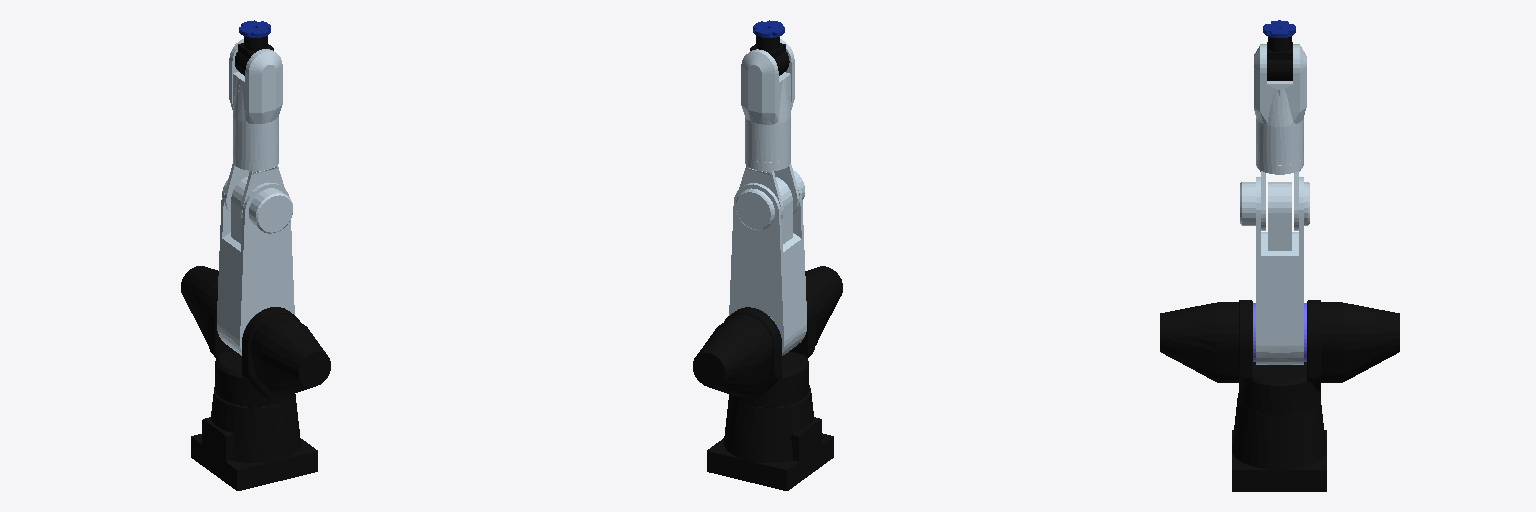
URDF robot description (crs93):
<?xml version="1.0"?>
<!-- CRS A465 (CTU station CRS93). GENERATED by robodk2urdf.py, do not edit.
     Kinematics = ctu_crs (joint values == robot.get_q(), frame 'flange' ==
     robot.fk(q), base_link == ctu base frame). Meshes from RoboDK library.
     Units: m, rad. -->
<robot name="crs93">
  <material name="crs_0"><color rgba="0.1 0.1 0.1 1"/></material>
  <material name="crs_1"><color rgba="0.778 0.849 0.9 1"/></material>
  <material name="crs_2"><color rgba="0.5 0.5 1 1"/></material>
  <link name="base_link">
    <visual>
      <origin xyz="0 0 -0.0248"/>
      <geometry><mesh filename="meshes/crs93/link0.stl"/></geometry>
      <material name="crs_0"/>
    </visual>
    <collision>
      <origin xyz="0 0 -0.0248"/>
      <geometry><mesh filename="meshes/crs93/link0.stl"/></geometry>
    </collision>
  </link>
  <link name="link1">
    <visual>
      <origin xyz="0 0 0.3052"/>
      <geometry><mesh filename="meshes/crs93/link1.stl"/></geometry>
      <material name="crs_0"/>
    </visual>
    <collision>
      <origin xyz="0 0 0.3052"/>
      <geometry><mesh filename="meshes/crs93/link1.stl"/></geometry>
    </collision>
  </link>
  <link name="link2">
    <visual>
      <origin xyz="0 0 0"/>
      <geometry><mesh filename="meshes/crs93/link2_0.stl"/></geometry>
      <material name="crs_1"/>
    </visual>
    <visual>
      <origin xyz="0 0 0"/>
      <geometry><mesh filename="meshes/crs93/link2_1.stl"/></geometry>
      <material name="crs_2"/>
    </visual>
    <collision>
      <origin xyz="0 0 0"/>
      <geometry><mesh filename="meshes/crs93/link2.stl"/></geometry>
    </collision>
  </link>
  <link name="link3">
    <visual>
      <origin xyz="0 0 0"/>
      <geometry><mesh filename="meshes/crs93/link3.stl"/></geometry>
      <material name="crs_1"/>
    </visual>
    <collision>
      <origin xyz="0 0 0"/>
      <geometry><mesh filename="meshes/crs93/link3.stl"/></geometry>
    </collision>
  </link>
  <link name="link4">
    <visual>
      <origin xyz="0 0 0.3302"/>
      <geometry><mesh filename="meshes/crs93/link4.stl"/></geometry>
      <material name="crs_1"/>
    </visual>
    <collision>
      <origin xyz="0 0 0.3302"/>
      <geometry><mesh filename="meshes/crs93/link4.stl"/></geometry>
    </collision>
  </link>
  <link name="link5">
    <visual>
      <origin xyz="0 0 0"/>
      <geometry><mesh filename="meshes/crs93/link5.stl"/></geometry>
      <material name="crs_0"/>
    </visual>
    <collision>
      <origin xyz="0 0 0"/>
      <geometry><mesh filename="meshes/crs93/link5.stl"/></geometry>
    </collision>
  </link>
  <link name="link6">
    <visual>
      <origin xyz="0 0 0.0762"/>
      <geometry><mesh filename="meshes/crs93/link6.stl"/></geometry>
      <material name="crs_0"/>
    </visual>
    <collision>
      <origin xyz="0 0 0.0762"/>
      <geometry><mesh filename="meshes/crs93/link6.stl"/></geometry>
    </collision>
  </link>
  <joint name="joint1" type="revolute">
    <parent link="base_link"/>
    <child link="link1"/>
    <origin xyz="0 0 0" rpy="0 -0 3.14159265359"/>
    <axis xyz="0 0 1"/>
    <limit lower="-2.95859488152" upper="3.0104311603" velocity="1.0" effort="100"/>
  </joint>
  <joint name="joint2" type="revolute">
    <parent link="link1"/>
    <child link="link2"/>
    <origin xyz="0 0 0.3052" rpy="-1.57079632679 -1.57079632679 0"/>
    <axis xyz="0 0 1"/>
    <limit lower="-1.56531424761" upper="1.57627840598" velocity="1.0" effort="100"/>
  </joint>
  <joint name="joint3" type="revolute">
    <parent link="link2"/>
    <child link="link3"/>
    <origin xyz="0.3048 0 0" rpy="0 -0 -1.57079632679"/>
    <axis xyz="0 0 1"/>
    <limit lower="-1.96663700115" upper="2.00747770564" velocity="1.0" effort="100"/>
  </joint>
  <joint name="joint4" type="revolute">
    <parent link="link3"/>
    <child link="link4"/>
    <origin xyz="0 0 0" rpy="-1.57079632679 -0 0"/>
    <axis xyz="0 0 1"/>
    <limit lower="-3.24423875019" upper="3.24112826242" velocity="1.0" effort="100"/>
  </joint>
  <joint name="joint5" type="revolute">
    <parent link="link4"/>
    <child link="link5"/>
    <origin xyz="0 0 0.3302" rpy="1.57079632679 -0 0"/>
    <axis xyz="0 0 1"/>
    <limit lower="-1.84411488766" upper="1.83154851704" velocity="1.0" effort="100"/>
  </joint>
  <joint name="joint6" type="revolute">
    <parent link="link5"/>
    <child link="link6"/>
    <origin xyz="0 0 0" rpy="1.57079632679 1.22464679915e-16 3.14159265359"/>
    <axis xyz="0 0 1"/>
    <limit lower="-3.14470314137" upper="3.20380240911" velocity="1.0" effort="100"/>
  </joint>
  <link name="flange"/>
  <joint name="link6_to_flange" type="fixed">
    <parent link="link6"/>
    <child link="flange"/>
    <origin xyz="0 0 0.0762" rpy="0 0 3.14159265359"/>
  </joint>
  <!-- CRS adapter; the hoop is NOT part of the robot: its magnetic mount is
       ambiguous and not rigid, it is to be attached from measurements. -->
  <material name="crs_adapter_color"><color rgba="0.12 0.22 0.6 1"/></material>
  <link name="adapter">
    <visual><geometry><mesh filename="meshes/crs_adapter.stl" scale="0.001 0.001 0.001"/></geometry>
      <material name="crs_adapter_color"/></visual>
    <collision><geometry><mesh filename="meshes/crs_adapter.stl" scale="0.001 0.001 0.001"/></geometry></collision>
  </link>
  <joint name="flange_to_adapter" type="fixed">
    <parent link="flange"/>
    <child link="adapter"/>
    <origin xyz="0 0 0.002" rpy="3.14159265359 -0 1.57079632679"/>
  </joint>
  <!-- centre of the adapter front face, axes as in the adapter/hoop STEP files
       (triangle vertex and nominal hoop ring direction = -y) -->
  <link name="adapter_front"/>
  <joint name="adapter_to_adapter_front" type="fixed">
    <parent link="adapter"/>
    <child link="adapter_front"/>
    <origin xyz="0 0 -0.008" rpy="0 0 0"/>
  </joint>
</robot>

--- Facts derived from the render (not from the file) ---
3 views of the same robot in one strip: view 1: azimuth 30°, elevation 25°; view 2: azimuth 150°, elevation 25°; view 3: azimuth 270°, elevation 25° (orthographic).
Robot: crs93 — 10 links, 9 joints (6 revolute, 3 fixed); root link base_link; default pose: every joint at zero.
Links seen in each view (by area): view 1: link1, link2, base_link, link4, link3, link5; view 2: link1, link2, base_link, link4, link3, link5; view 3: link1, link2, base_link, link4, link3, link5.
Boxes of the visible links, <box> form: link1: <box>181,266,330,406</box>; link2: <box>217,177,294,355</box>; base_link: <box>191,387,317,490</box>; link4: <box>229,39,282,161</box>; link3: <box>224,155,284,217</box>; link5: <box>235,36,273,75</box>; link1: <box>693,266,842,406</box>; link2: <box>729,170,806,355</box>; base_link: <box>707,385,833,490</box>; link4: <box>741,39,794,162</box>; link3: <box>739,155,799,218</box>; link5: <box>750,36,789,75</box>; link1: <box>1160,300,1399,414</box>; link2: <box>1240,177,1309,364</box>; base_link: <box>1232,393,1326,491</box>; link4: <box>1254,44,1306,164</box>; link3: <box>1256,157,1303,230</box>; link5: <box>1267,38,1292,80</box>.
Bounding box of the posed robot: 0.2032 × 0.5136 × 1.05 m (x, y, z).
9 mesh visuals loaded from 9 distinct referenced files (9 binary STL).
